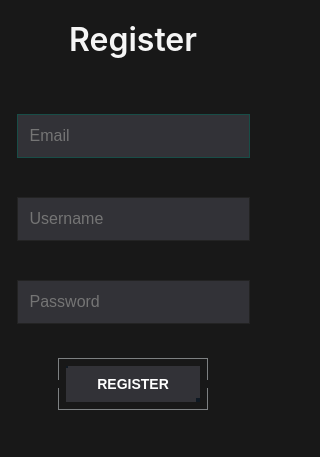
Test case: RegisterPage › displays error on failed registration
Type "takenuser" into the field with placeholder "Username" at (133, 219), box [16,197,250,241]
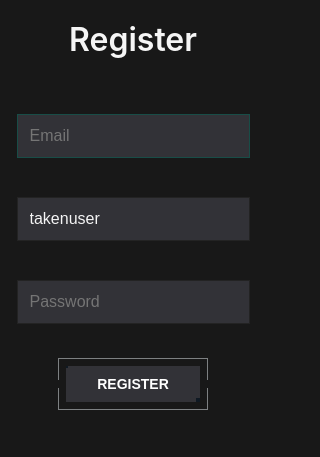
Type "test@example.com" into the field with placeholder "Email" at (133, 136), box [16,114,250,158]
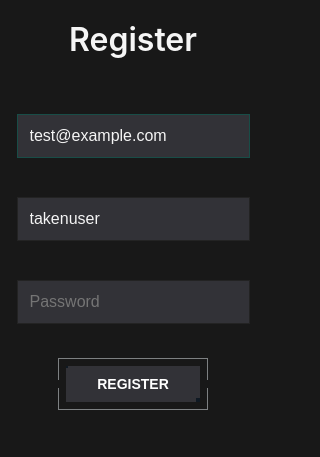
Type "password123" into the password field with placeholder "Password" at (133, 302), box [16,280,250,324]
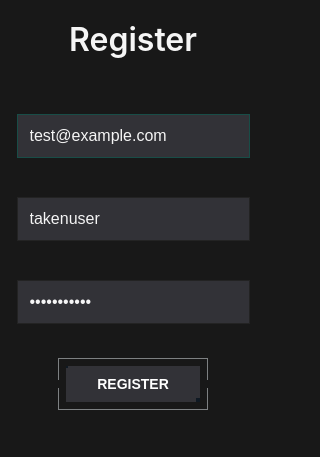
Click the button "Register" at (133, 384), box [58,358,208,410]
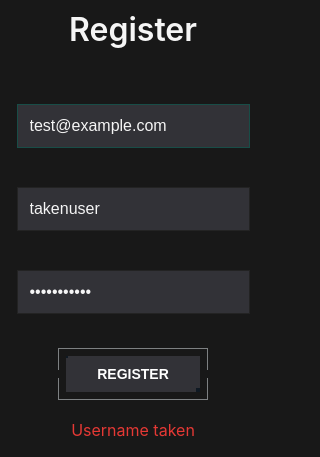
Check: the text "Username taken" is shown, box [71,420,195,440]
